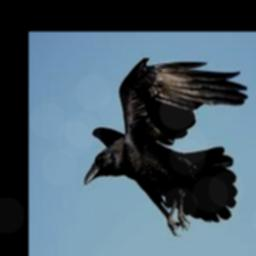Crow: (86, 56, 249, 237)
